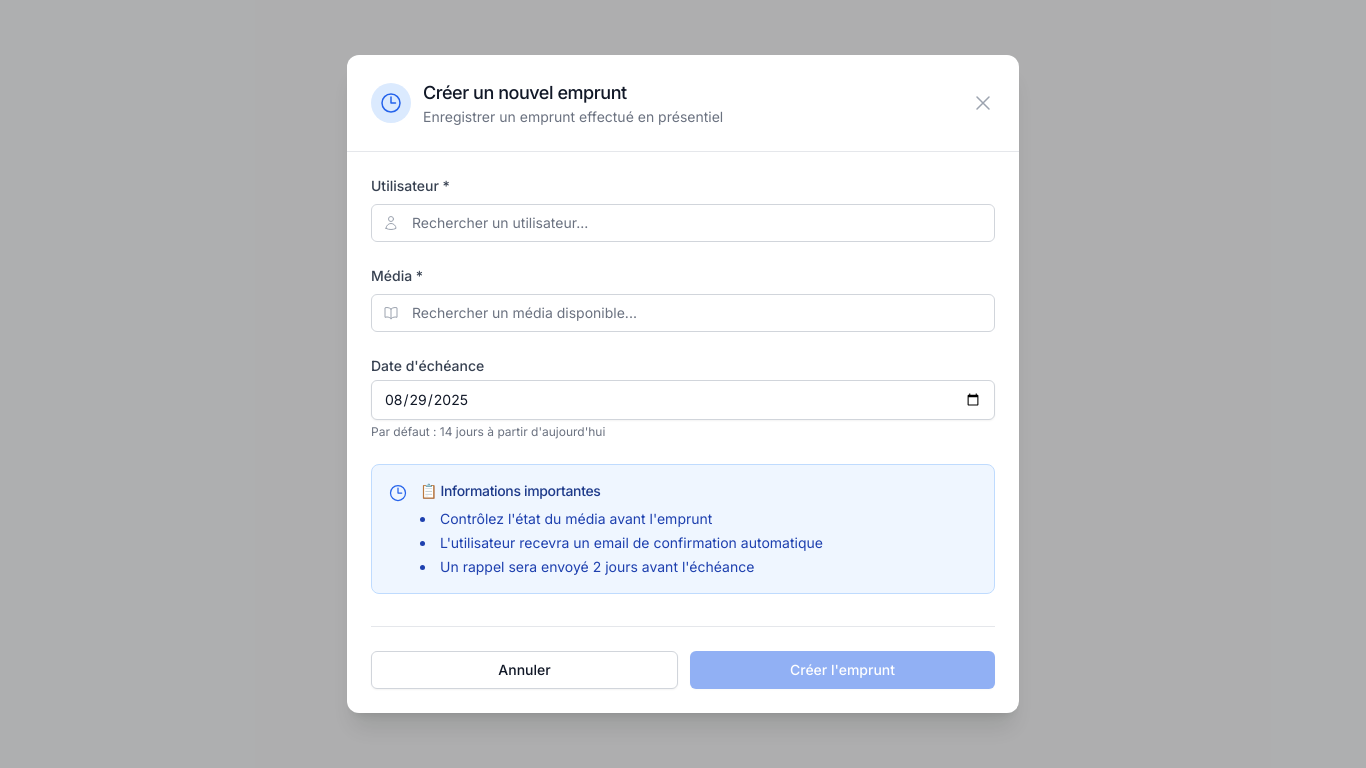
Test: CreateBorrowModal › Recherche de médias › devrait afficher le média sélectionné avec ses informations
Type "Petit Prince" into the field with placeholder "Rechercher un média disponible...".
click(683, 313); type("Petit Prince")  # box [371,294,995,332]
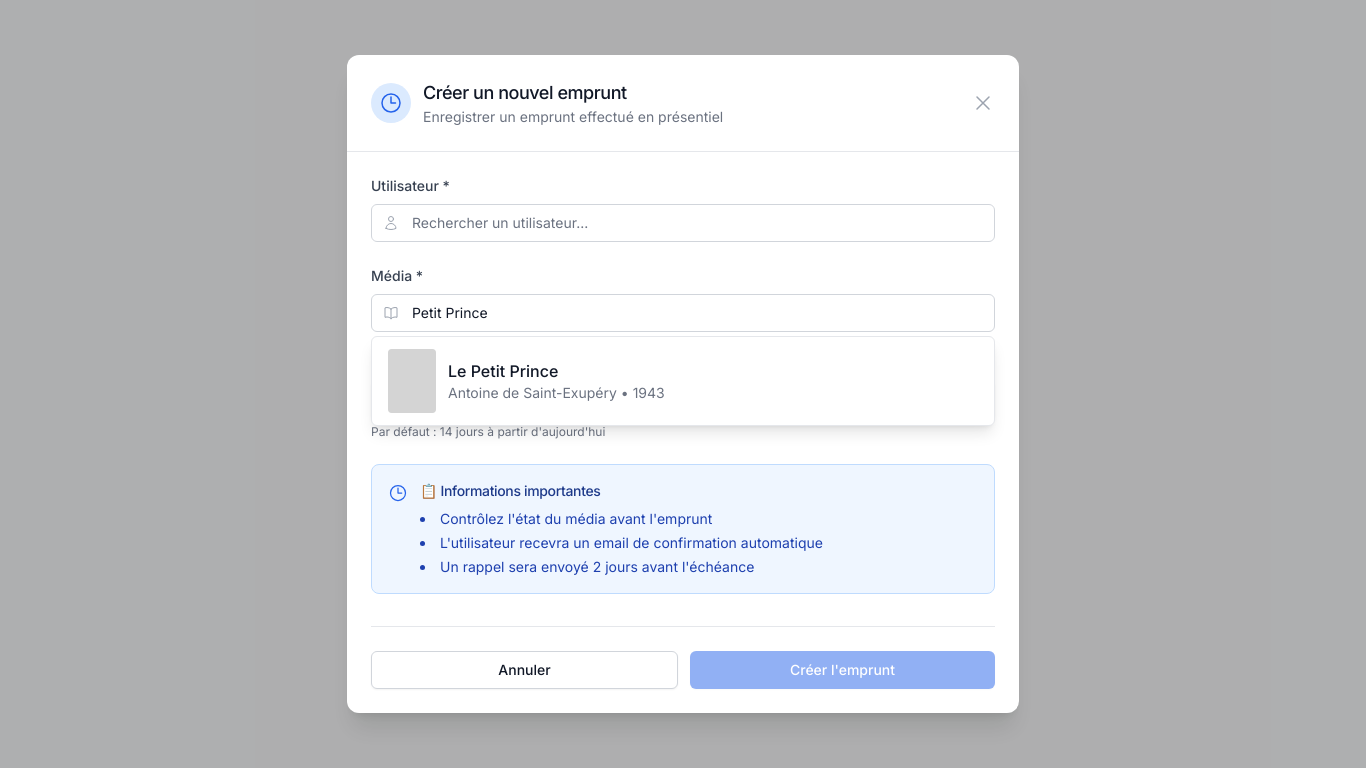
Click the button "Le Petit Prince".
click(412, 381)  # box [372,337,994,425]
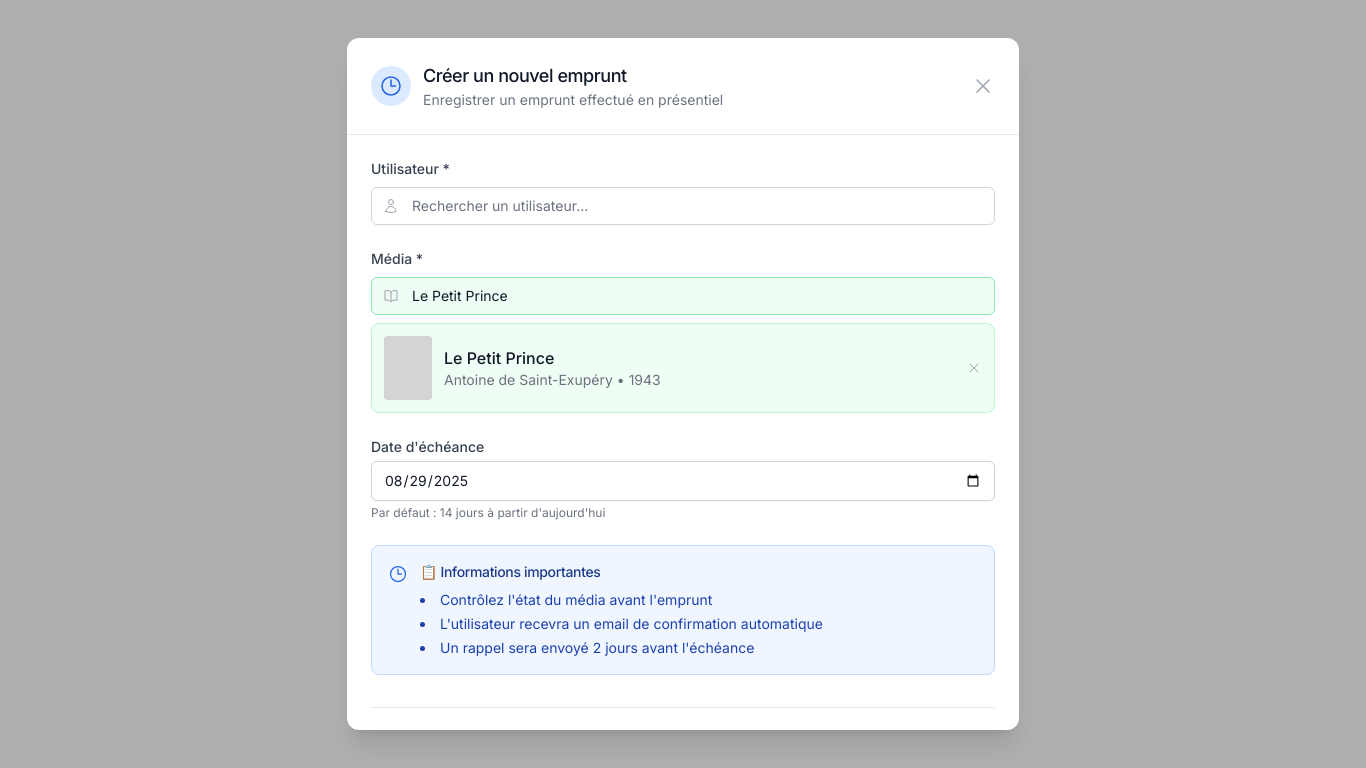
Expected: the text "Le Petit Prince" is shown, [444,348,554,368]
Expected: the text "Antoine de Saint-Exupéry • 1943" is shown, [444,370,661,390]
Expected: the field with placeholder "Rechercher un média disponible..." holds "Le Petit Prince", [371,277,995,315]
